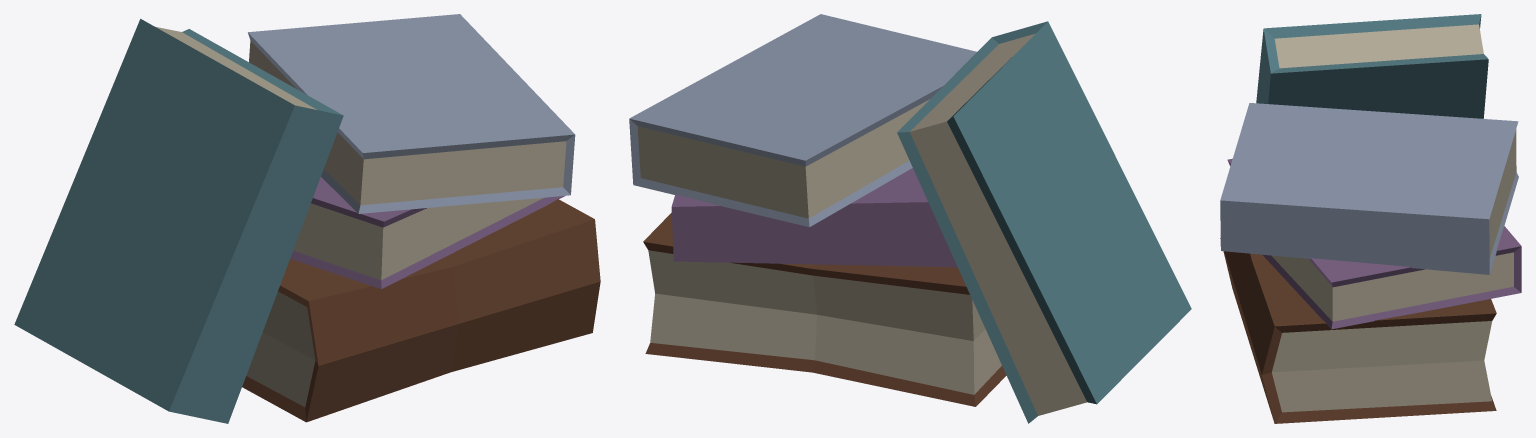
Rendered from Book_Pile_Small.gltf.
3 views of the same model, side by side, from view 1: azimuth 30°, elevation 25°; view 2: azimuth 150°, elevation 25°; view 3: azimuth 270°, elevation 25° (orthographic). The views are drawn at different scales.
Visible parts, largest first — view 1: Book_Pile_Small2; view 2: Book_Pile_Small2; view 3: Book_Pile_Small2.
Part boxes in pixels (x1,y1,x2,y2): Book_Pile_Small2: (14,14,600,423); Book_Pile_Small2: (629,14,1191,423); Book_Pile_Small2: (1220,14,1521,423).
Size of the model in its own units: 0.1589 by 0.098 by 0.0997.
Materials: 1 (1 with a texture image).
